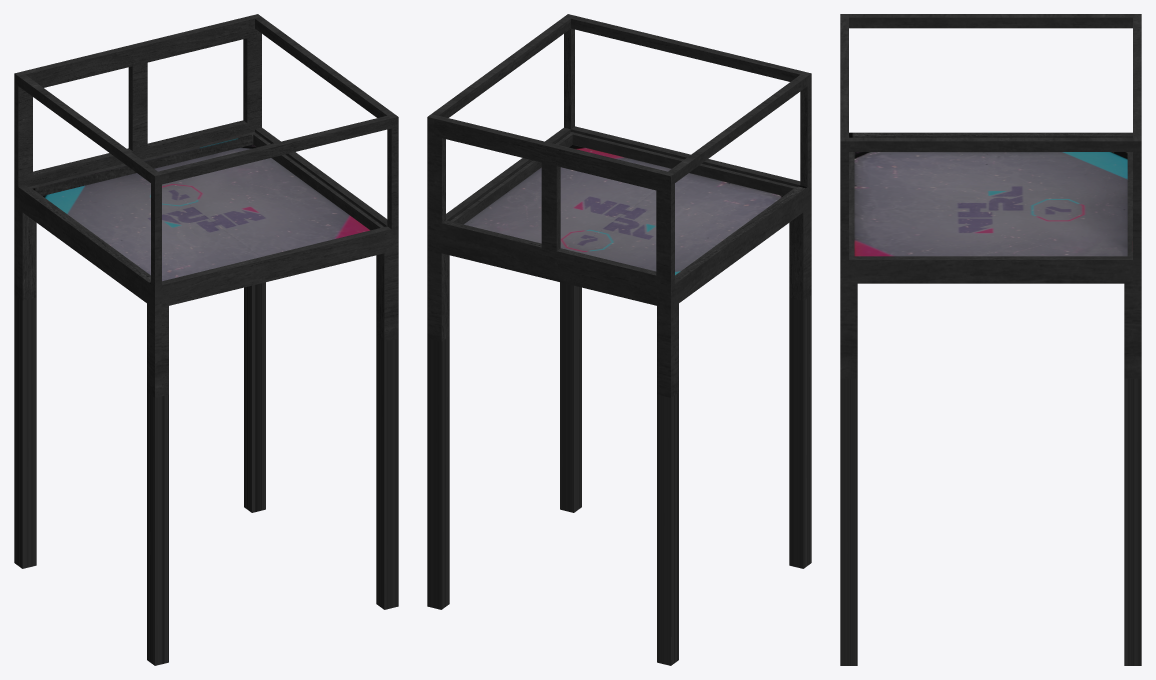
Rendered from NHRL Cage Mesh.fbx.
3 views of the same model, side by side, from view 1: azimuth 30°, elevation 25°; view 2: azimuth 150°, elevation 25°; view 3: azimuth 270°, elevation 25° (orthographic). The views are drawn at different scales.
Visible parts, largest first — view 1: ID2; view 2: ID2; view 3: ID2.
Part boxes in pixels (x1,y1,x2,y2): ID2: [14, 14, 398, 665]; ID2: [427, 14, 811, 665]; ID2: [840, 14, 1141, 665].
Size of the model in its own units: 259 by 497 by 259.
